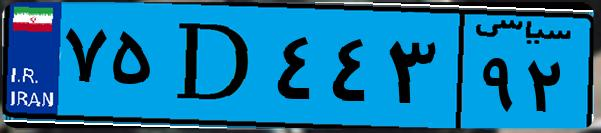2: (525, 38, 570, 115)
3: (385, 28, 445, 110)
4: (270, 28, 330, 110), (330, 28, 385, 110)
5: (110, 28, 158, 98)
7: (57, 26, 110, 100)
9: (475, 38, 525, 113)
D: (158, 12, 270, 120)
